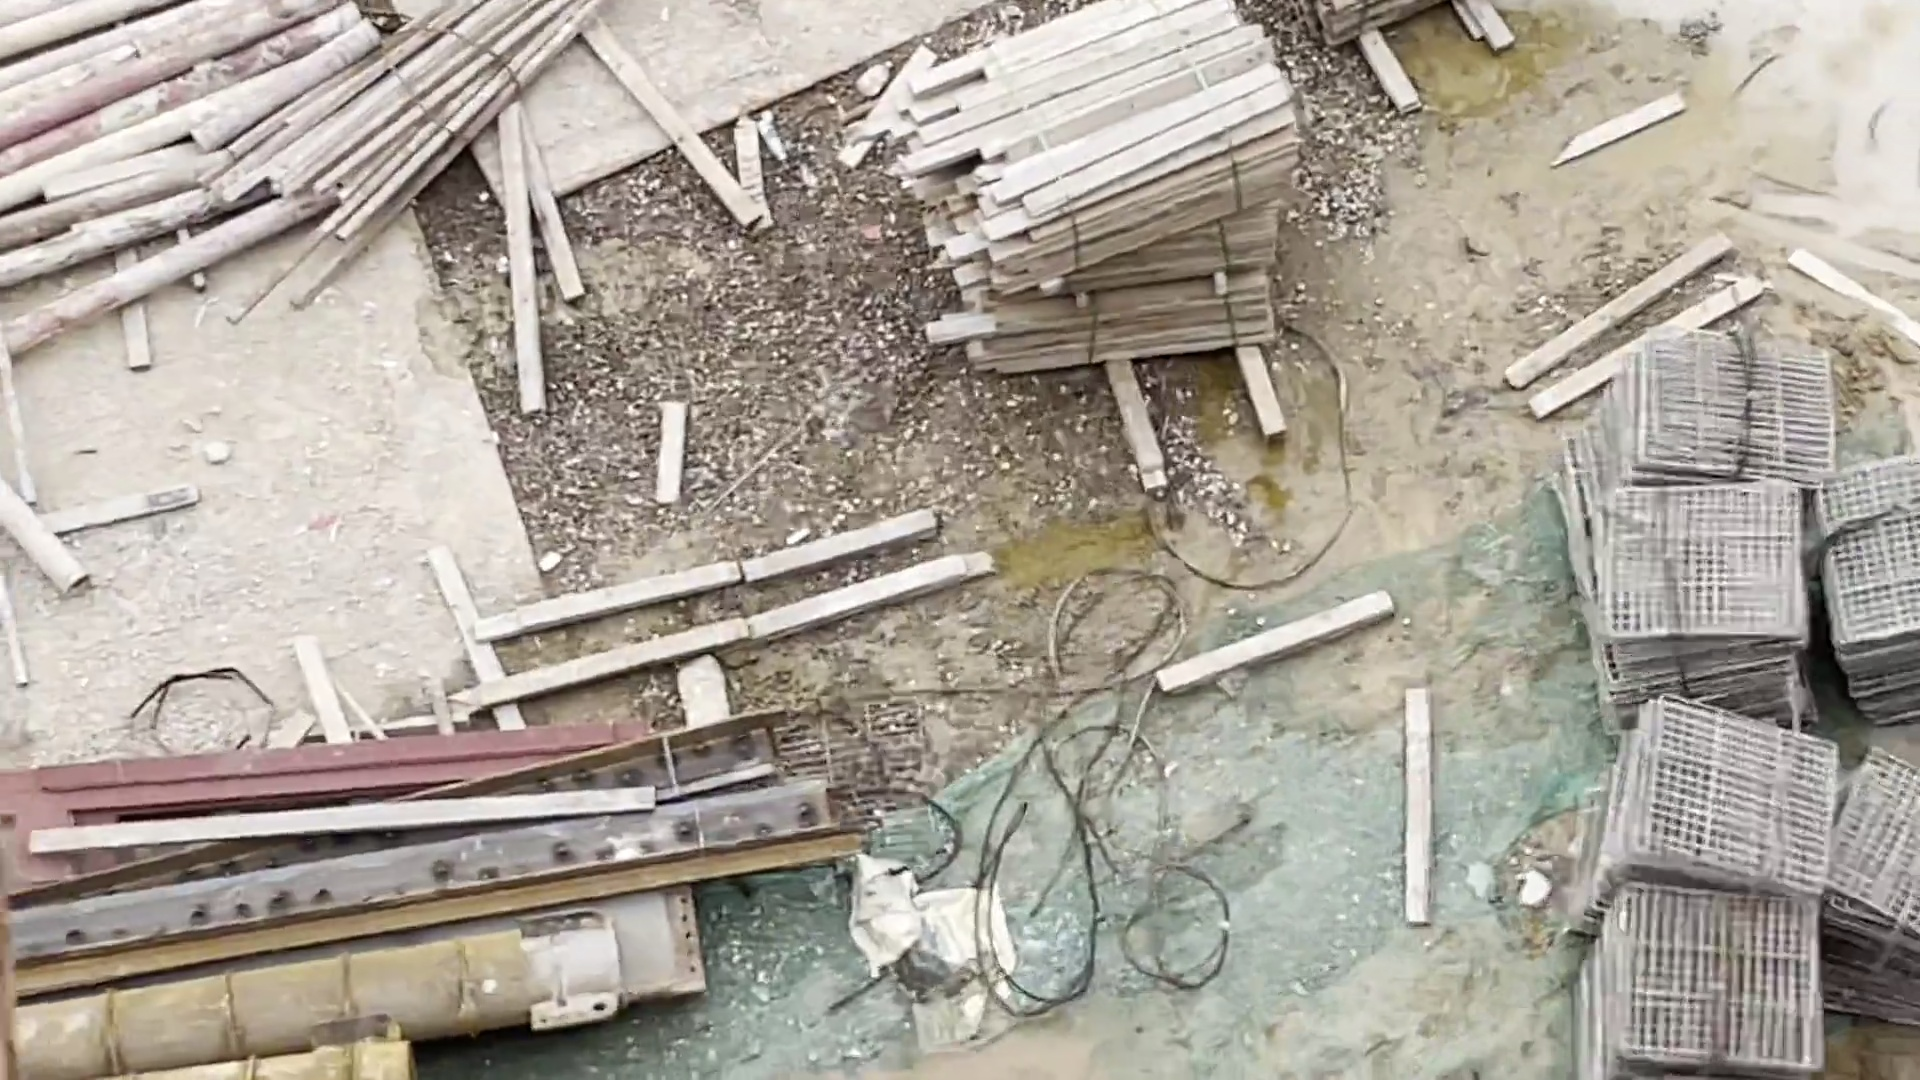wood: (938, 1, 1302, 371), (239, 1, 566, 247)
